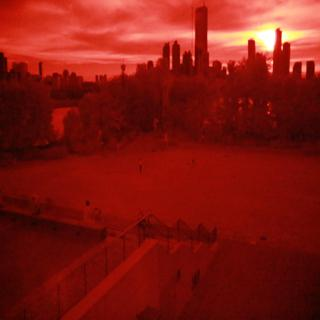person: (134, 158, 147, 183)
